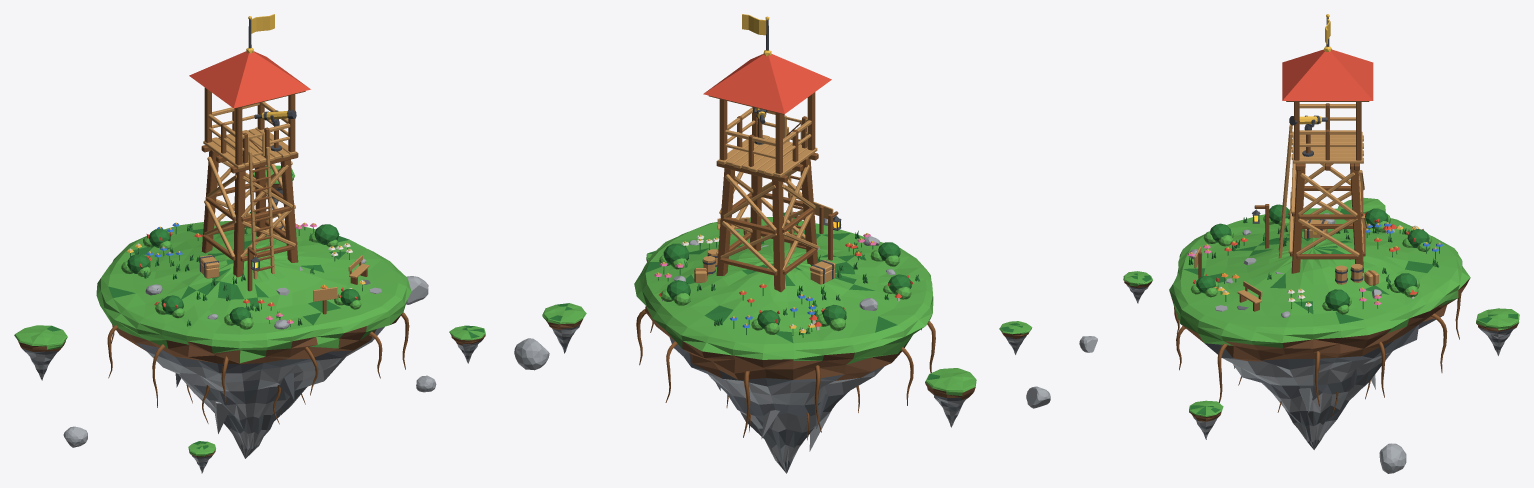
File: sky-lookout-island.glb
3 views of the same model, side by side, from view 1: azimuth 30°, elevation 25°; view 2: azimuth 150°, elevation 25°; view 3: azimuth 270°, elevation 25° (orthographic). The views are drawn at different scales.
Parts seen in each view (by area): view 1: Island_Ground, Tower_Frame, Tower_Roof, Bushes, Tower_Railing, FloatingIslet_1, Tower_Ladder, Island_Roots, Tower_Deck, Flowers, FloatingIslet_2, Grass_Tufts (+2 smaller); view 2: Island_Ground, Tower_Frame, Tower_Roof, Bushes, Tower_Railing, FloatingIslet_1, Tower_Deck, Island_Roots, FloatingIslet_3, Flowers, FloatingRock_1, Grass_Tufts (+2 smaller); view 3: Island_Ground, Tower_Frame, Tower_Roof, Bushes, Tower_Railing, Tower_Deck, Island_Roots, FloatingIslet_3, Flowers, FloatingIslet_2, FloatingRock_1, Tower_Ladder (+2 smaller).
Boxes of the visible parts, bbox=[...] form: Island_Ground: bbox=[96, 221, 411, 458]; Tower_Frame: bbox=[201, 145, 298, 277]; Tower_Roof: bbox=[189, 51, 310, 108]; Bushes: bbox=[121, 211, 361, 329]; Tower_Railing: bbox=[204, 87, 295, 165]; FloatingIslet_1: bbox=[14, 325, 67, 380]; Tower_Ladder: bbox=[248, 147, 274, 279]; Island_Roots: bbox=[107, 312, 409, 424]; Tower_Deck: bbox=[203, 127, 296, 168]; Flowers: bbox=[126, 222, 365, 326]; FloatingIslet_2: bbox=[449, 325, 485, 363]; Grass_Tufts: bbox=[135, 224, 314, 326]; Island_Ground: bbox=[634, 217, 933, 473]; Tower_Frame: bbox=[716, 153, 818, 292]; Tower_Roof: bbox=[703, 53, 831, 113]; Bushes: bbox=[659, 211, 913, 334]; Tower_Railing: bbox=[719, 92, 815, 173]; FloatingIslet_1: bbox=[925, 368, 976, 427]; Tower_Deck: bbox=[717, 135, 817, 177]; Island_Roots: bbox=[636, 309, 935, 440]; FloatingIslet_3: bbox=[542, 303, 586, 353]; Flowers: bbox=[654, 231, 876, 337]; FloatingRock_1: bbox=[514, 338, 549, 370]; Grass_Tufts: bbox=[684, 230, 919, 335]; Island_Ground: bbox=[1169, 208, 1470, 449]; Tower_Frame: bbox=[1288, 160, 1366, 273]; Tower_Roof: bbox=[1282, 49, 1373, 100]; Bushes: bbox=[1191, 204, 1431, 314]; Tower_Railing: bbox=[1294, 102, 1361, 160]; Tower_Deck: bbox=[1291, 131, 1363, 163]; Island_Roots: bbox=[1174, 294, 1461, 415]; FloatingIslet_3: bbox=[1476, 308, 1519, 355]; Flowers: bbox=[1188, 222, 1443, 313]; FloatingIslet_2: bbox=[1189, 400, 1223, 439]; FloatingRock_1: bbox=[1379, 443, 1406, 473]; Tower_Ladder: bbox=[1278, 124, 1292, 258].
Size of the model in its own units: 52.2 by 50.05 by 45.17.
